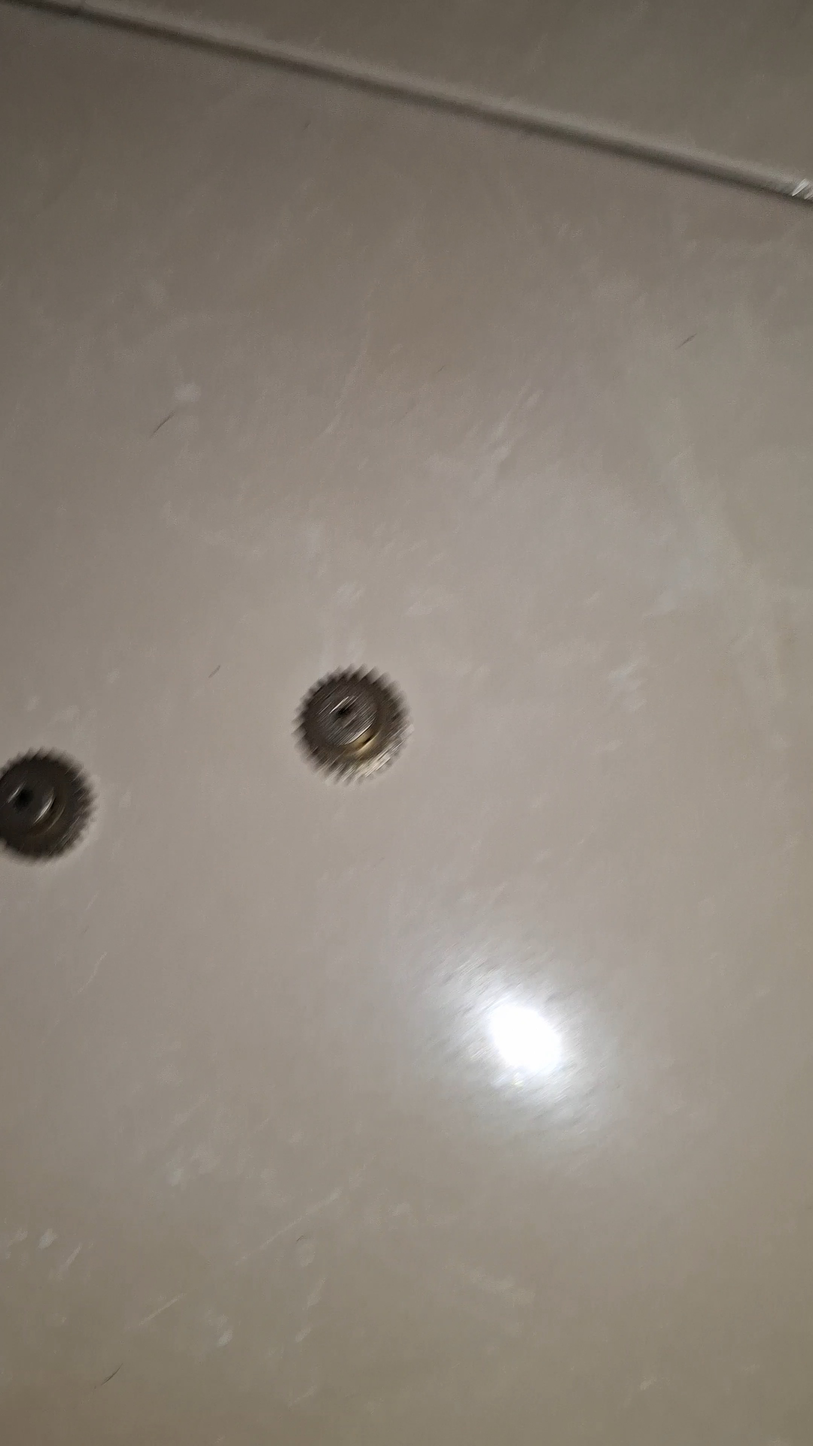spur gear: (297, 670, 408, 780), (0, 752, 92, 859)
